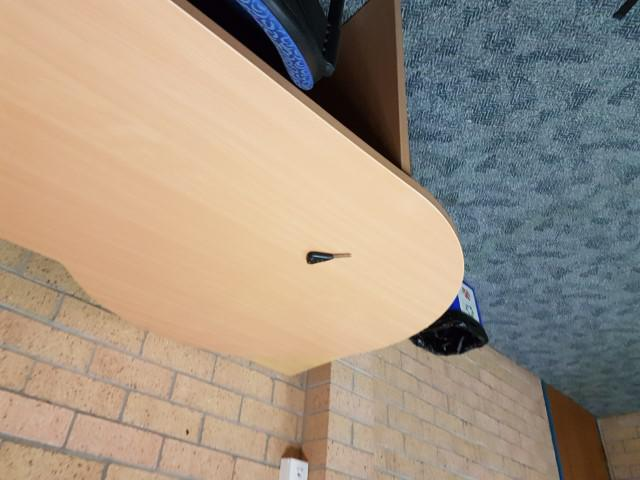key: (307, 249, 352, 264)
